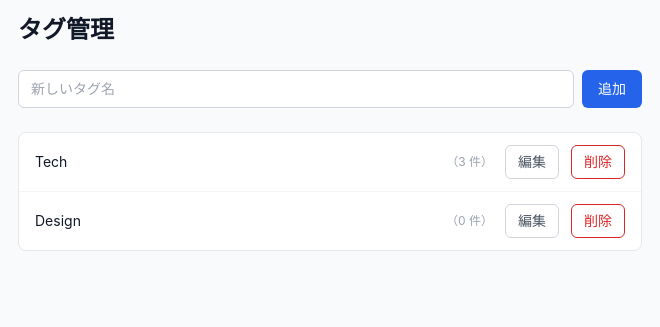
Test case: TagsPage › 新しいタグを追加すると一覧に表示される
This screenshot has width=660, height=327.
Expected: the text "Tech" is shown, [35, 153, 67, 170]
Type "News" into the field with placeholder "新しいタグ名".
click(296, 89); type("News")  # box [18, 70, 574, 108]
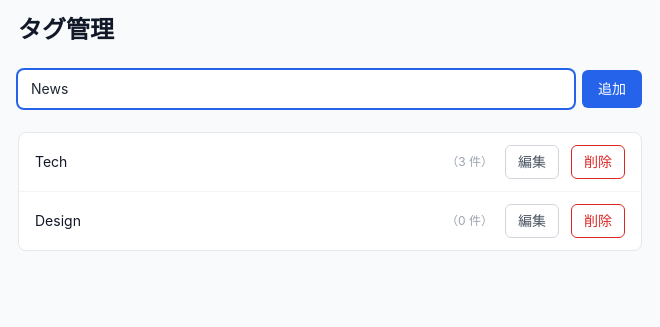
Click the button "追加".
click(612, 89)  # box [582, 70, 642, 108]
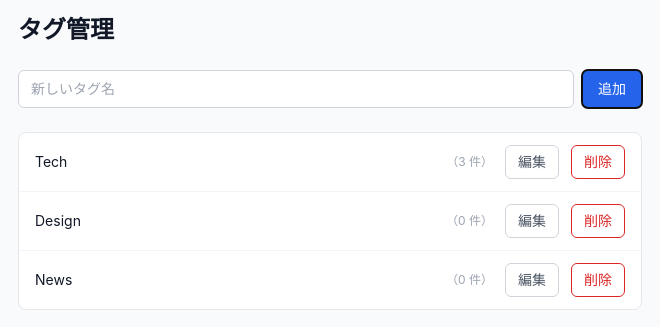
Expected: the text "News" is shown, [35, 271, 72, 288]
